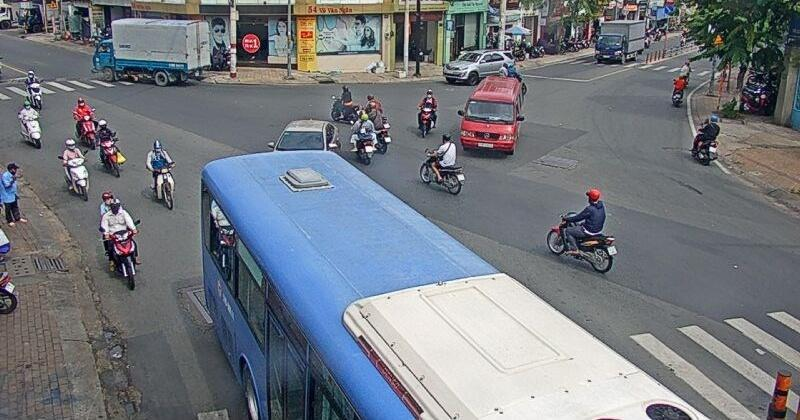xe buyt: (199, 151, 711, 420)
xe hoi: (459, 76, 524, 149), (267, 119, 340, 151)
xe may: (546, 188, 615, 274), (98, 191, 141, 291), (419, 131, 465, 196), (145, 139, 174, 210), (56, 138, 89, 200), (94, 118, 125, 178), (349, 110, 377, 164), (692, 115, 720, 165), (72, 96, 97, 150), (16, 101, 42, 151), (416, 89, 438, 138), (24, 70, 42, 108)
